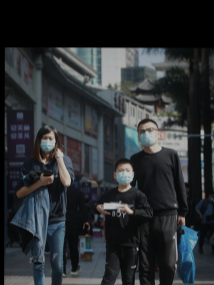with_mask: (138, 126, 159, 147), (115, 167, 134, 186), (39, 135, 56, 154)
